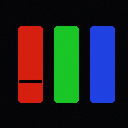3 line_h: (19, 80, 41, 82)
